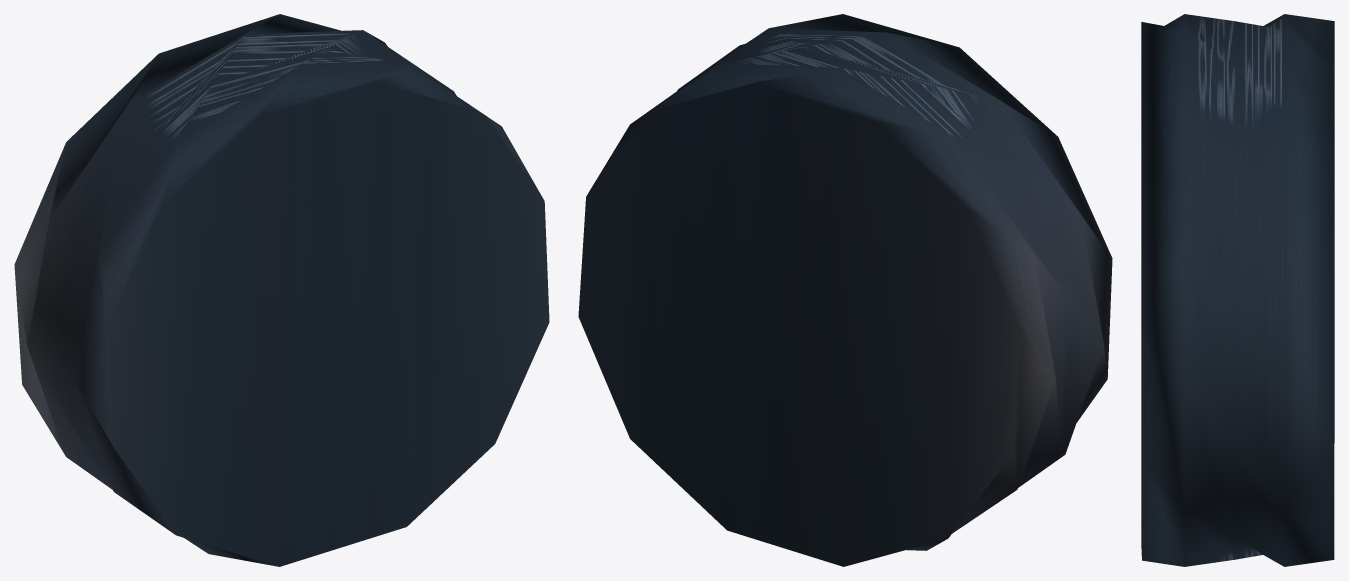
The model's file is cable_1_ek_bant.fbx.
The picture shows the model from 3 angles, left to right: view 1: azimuth 30°, elevation 25°; view 2: azimuth 150°, elevation 25°; view 3: azimuth 270°, elevation 25°; orthographic projection. The views are drawn at different scales.
Visible parts, largest first — view 1: Worm Gear.006; view 2: Worm Gear.006; view 3: Worm Gear.006.
Part boxes in pixels (x1,y1,x2,y2): Worm Gear.006: [14, 14, 549, 566]; Worm Gear.006: [578, 14, 1112, 566]; Worm Gear.006: [1141, 14, 1334, 566].
Size of the model in its own units: 2.76 by 0.9575 by 2.76.
Materials: 1 (1 with a texture image).
